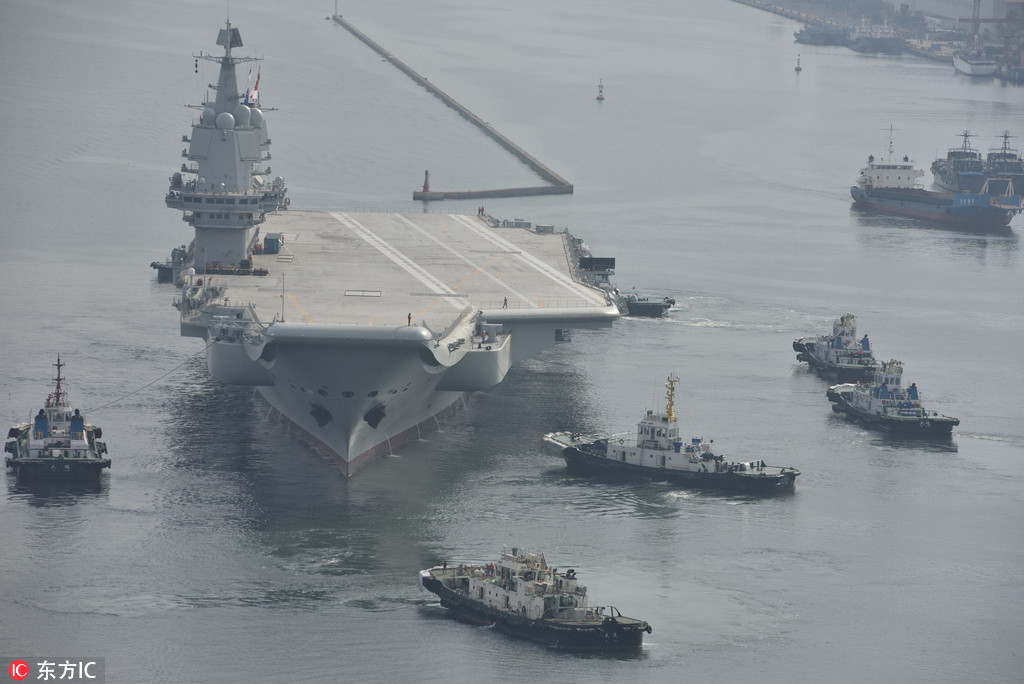Cargoship: (841, 126, 1019, 239), (926, 123, 990, 191), (982, 129, 1024, 207)
otherboat: (541, 373, 809, 498), (407, 540, 655, 661), (4, 361, 127, 498), (824, 359, 969, 449), (788, 303, 886, 381), (621, 286, 680, 321)
warship: (166, 29, 621, 473)
